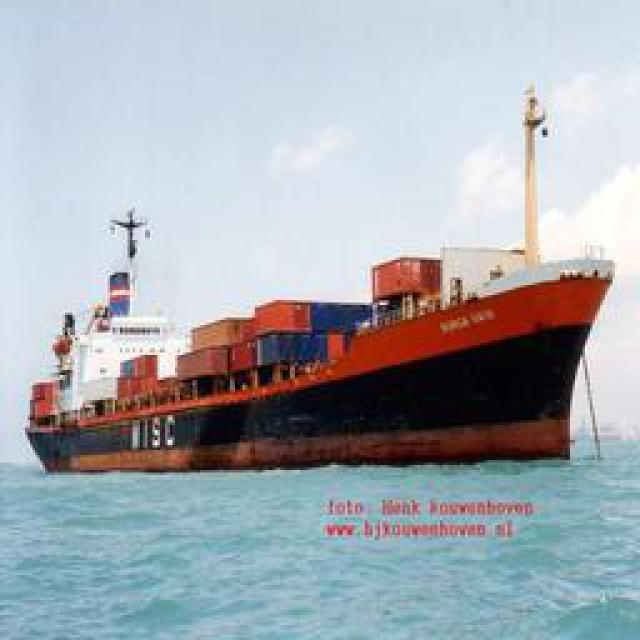Ship: (23, 229, 631, 474)
